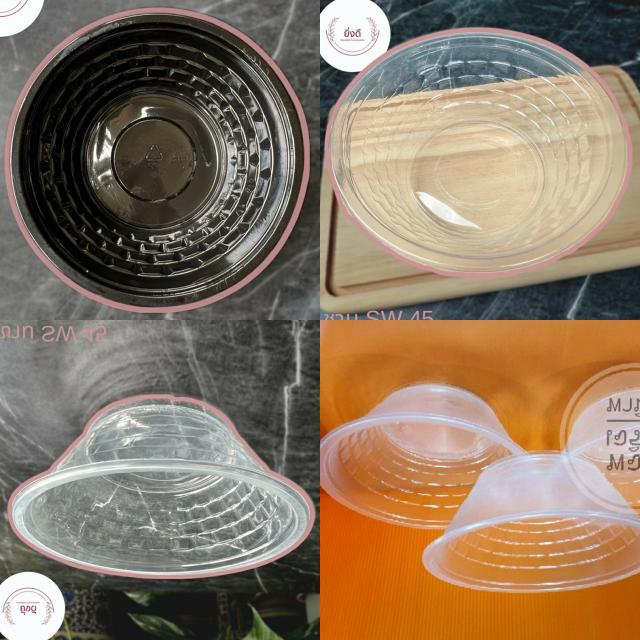Single-Use-Plastic: (5, 8, 309, 312), (325, 28, 632, 277), (9, 395, 314, 579), (422, 452, 640, 592), (321, 385, 522, 529)
